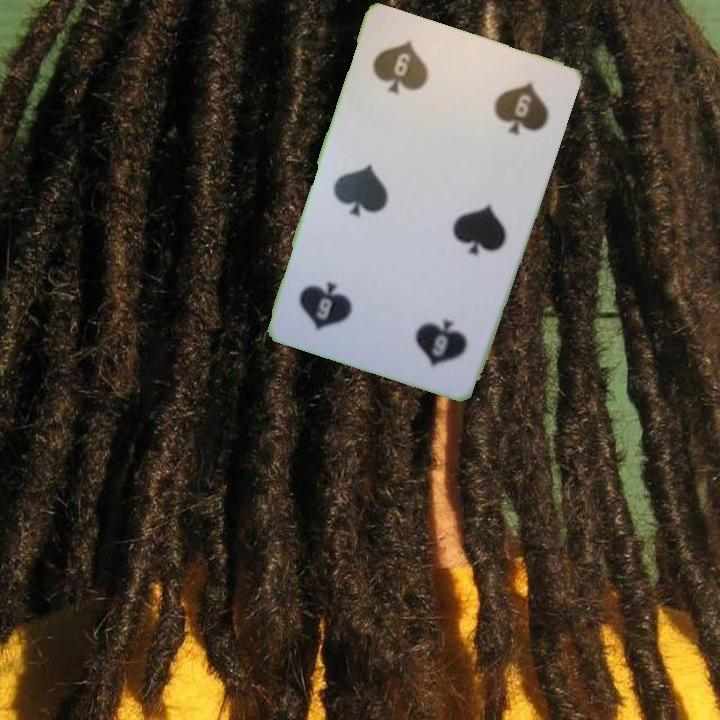s_6.png: (370, 274, 490, 385), (354, 21, 474, 132)
